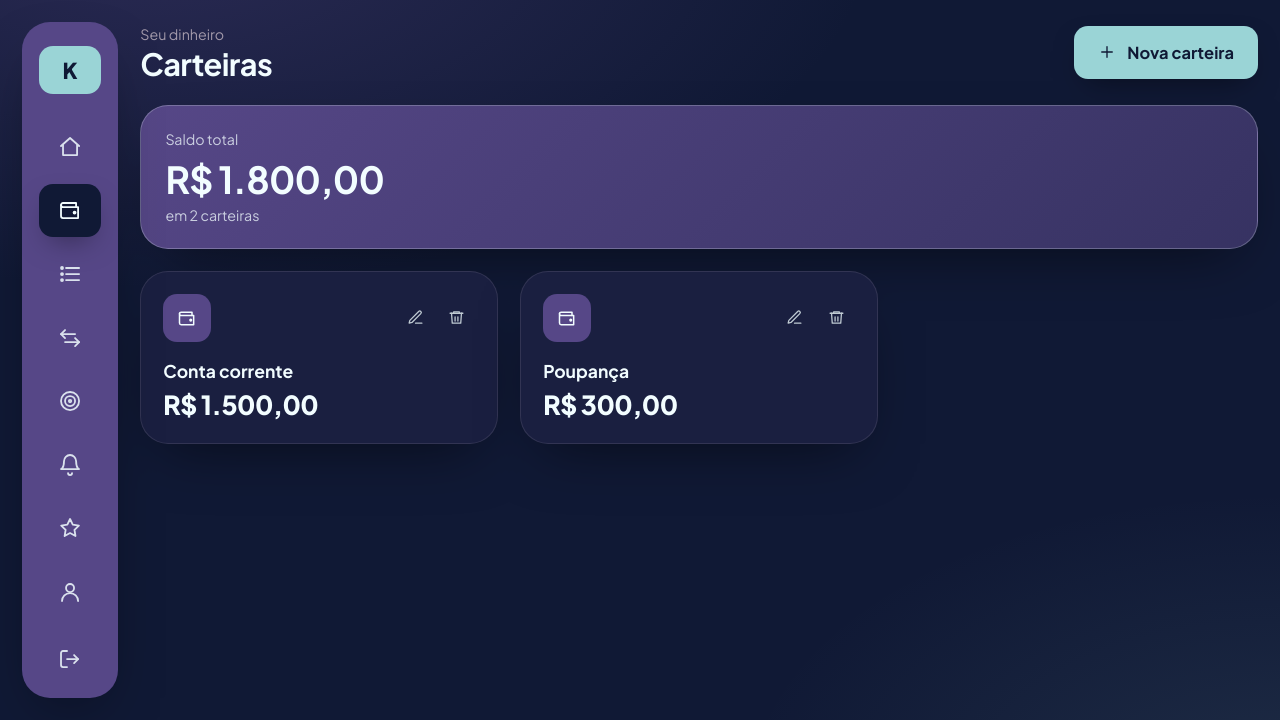
Test case: carteiras › saldo inicial inválido é recusado antes de ir à API
Expected: the text "Conta corrente" is shown, [163,360,293,382]
Click the button "Nova carteira" at {"x": 1166, "y": 52}, box [1074,26,1258,79]
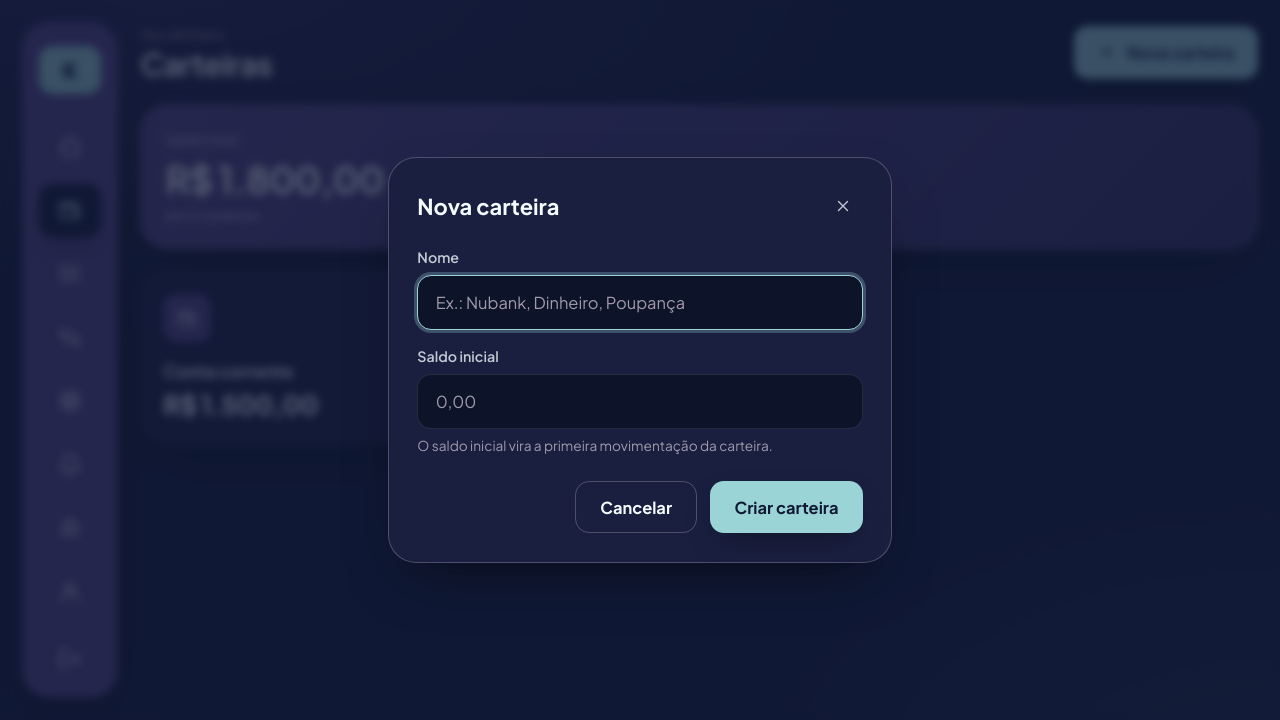
Type "X" into the field labelled "Nome" at {"x": 640, "y": 302}, box [434,276,846,329]
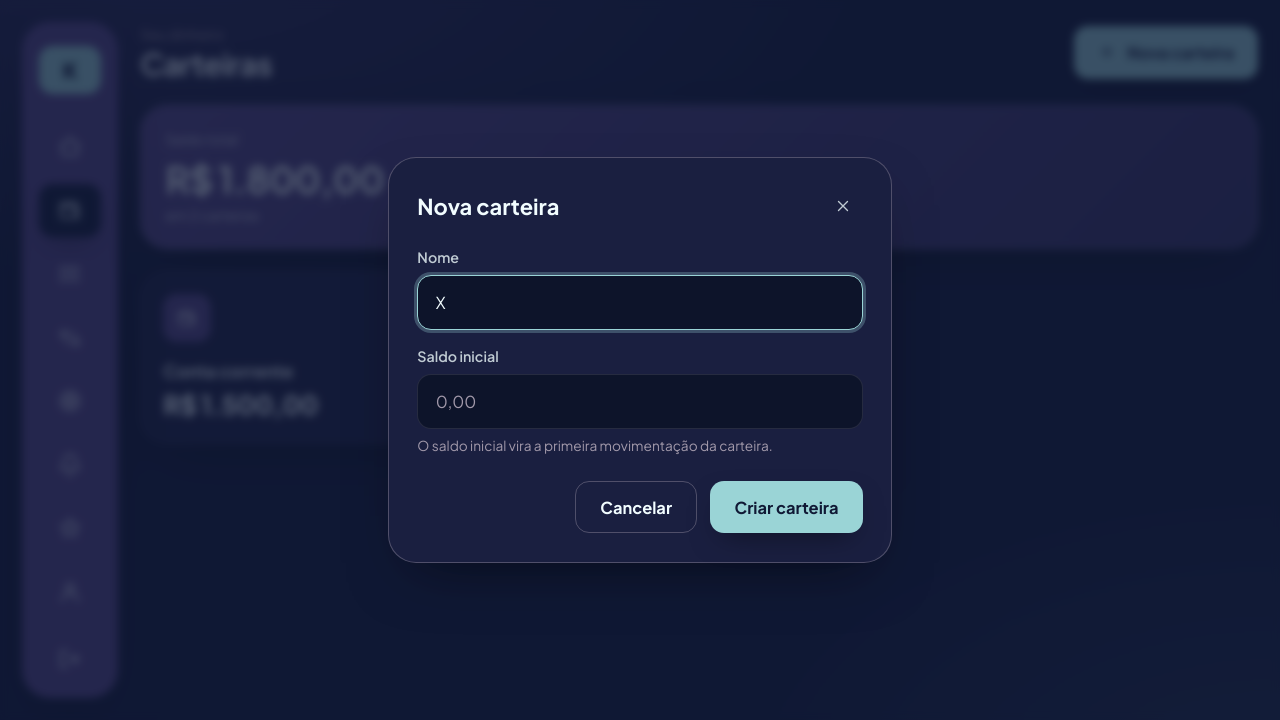
Type "abc" into the field labelled "Saldo inicial" at {"x": 640, "y": 401}, box [434,375,846,428]
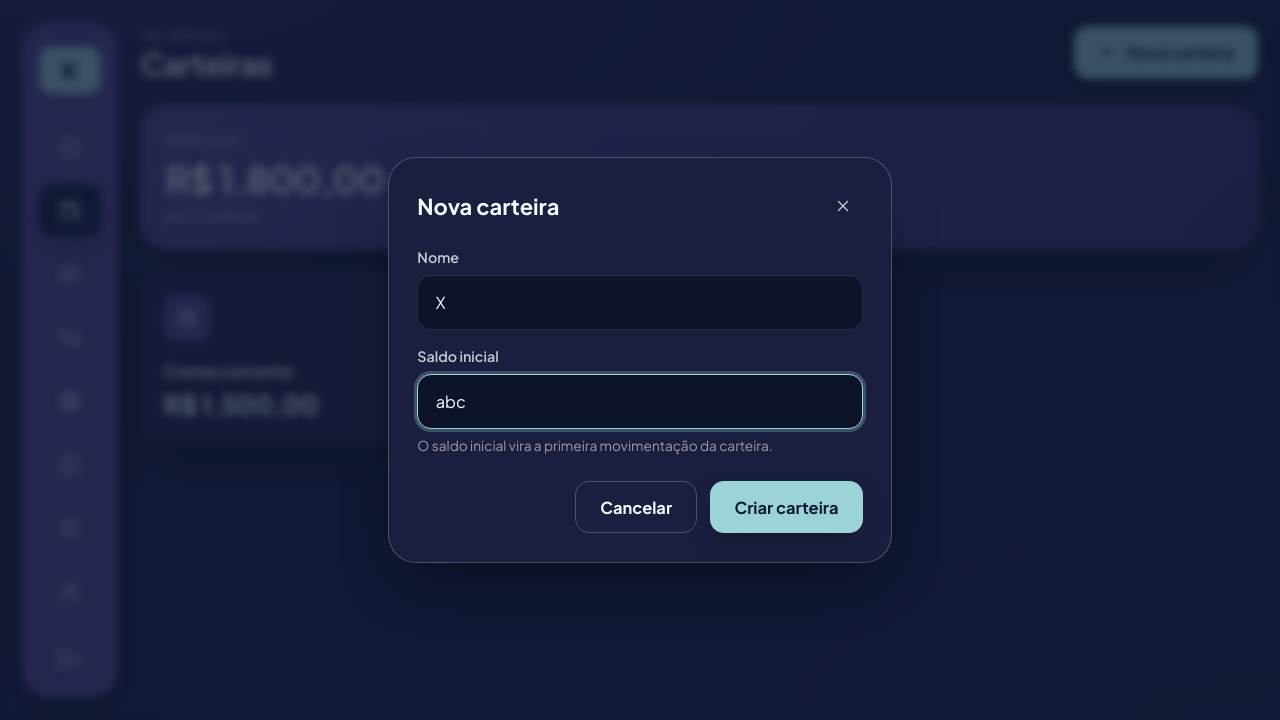
Click the button "Criar carteira" at {"x": 786, "y": 507}, box [710,481,863,533]
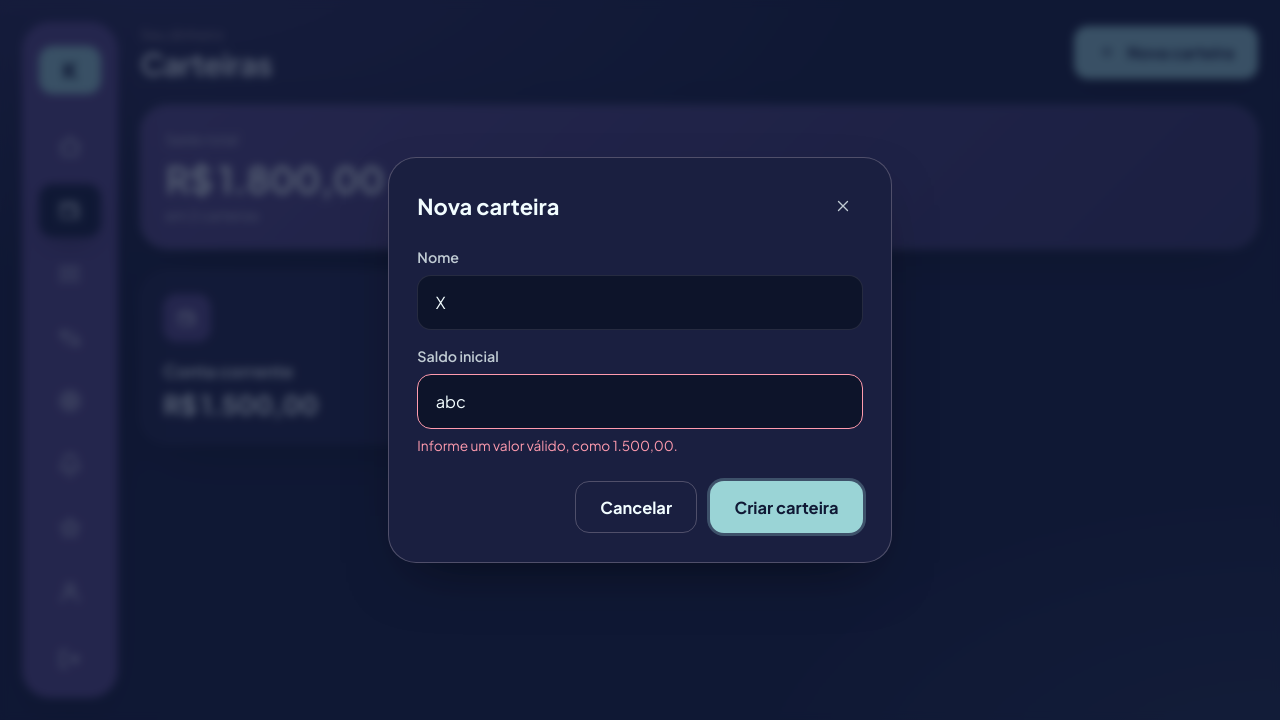
Now the text "Informe um valor válido, como 1.500,00." is shown, box [417,438,678,454]
